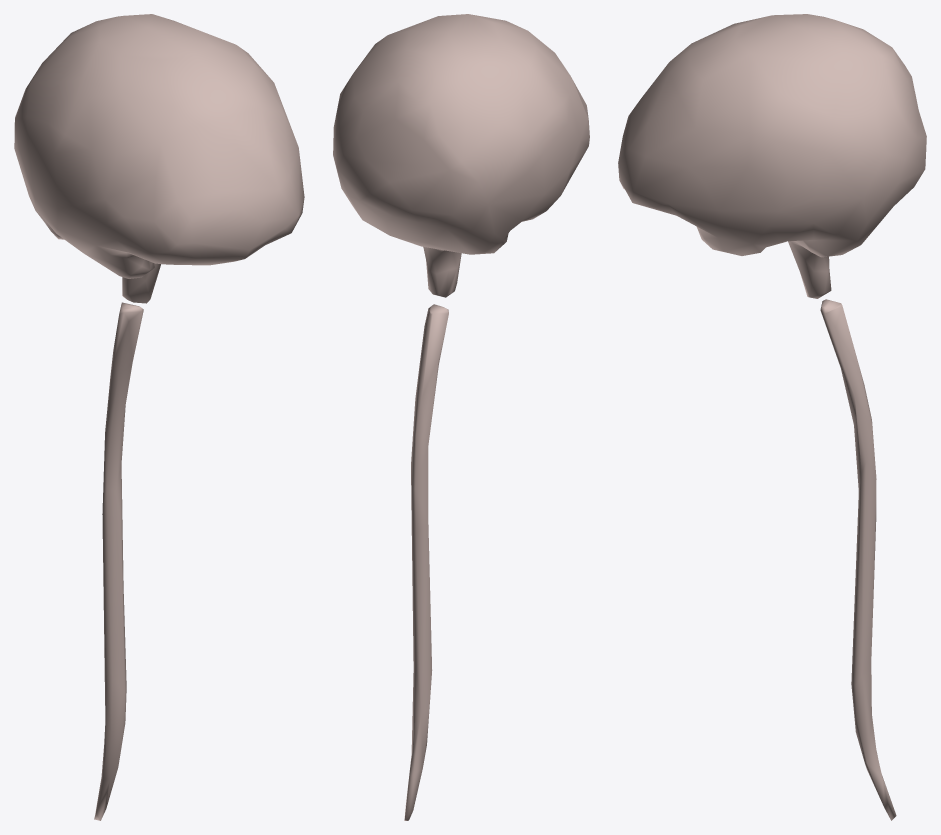
File: pediatric_neonate_female.nervous.LOD2.glb
3 views of the same model, side by side, from view 1: azimuth 30°, elevation 25°; view 2: azimuth 150°, elevation 25°; view 3: azimuth 270°, elevation 25° (orthographic). The views are drawn at different scales.
Parts seen in each view (by area): view 1: PEDIATRIC.NEONATE.FEMALE.NERVOUS.BRAIN, PEDIATRIC.NEONATE.FEMALE.NERVOUS.SPINAL_CORD; view 2: PEDIATRIC.NEONATE.FEMALE.NERVOUS.BRAIN, PEDIATRIC.NEONATE.FEMALE.NERVOUS.SPINAL_CORD; view 3: PEDIATRIC.NEONATE.FEMALE.NERVOUS.BRAIN, PEDIATRIC.NEONATE.FEMALE.NERVOUS.SPINAL_CORD.
Part boxes in pixels (left/top/right/bottom): PEDIATRIC.NEONATE.FEMALE.NERVOUS.BRAIN: left=14, top=14, right=304, bottom=303; PEDIATRIC.NEONATE.FEMALE.NERVOUS.SPINAL_CORD: left=94, top=302, right=143, bottom=820; PEDIATRIC.NEONATE.FEMALE.NERVOUS.BRAIN: left=333, top=14, right=589, bottom=297; PEDIATRIC.NEONATE.FEMALE.NERVOUS.SPINAL_CORD: left=404, top=304, right=448, bottom=820; PEDIATRIC.NEONATE.FEMALE.NERVOUS.BRAIN: left=618, top=14, right=926, bottom=298; PEDIATRIC.NEONATE.FEMALE.NERVOUS.SPINAL_CORD: left=820, top=299, right=896, bottom=820.
Bounding box in the file's own units: 0.0861 × 0.3026 × 0.1068.
